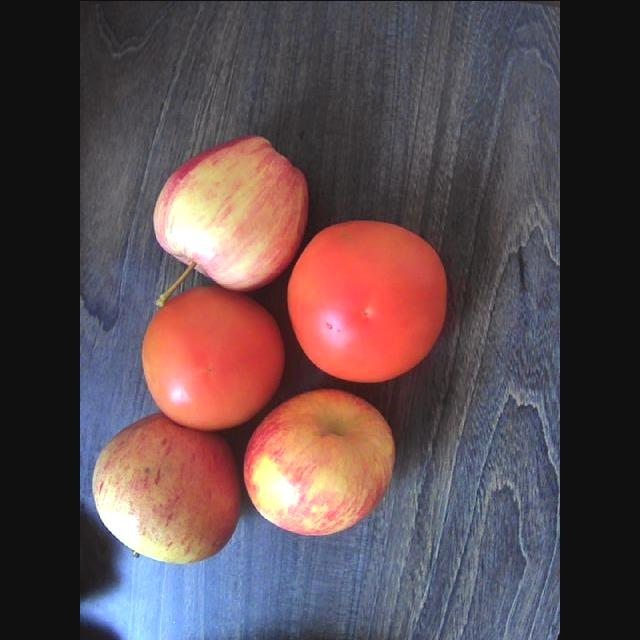manzana: (153, 137, 308, 304), (92, 412, 241, 562), (244, 389, 395, 534)
tomate: (288, 220, 445, 380), (142, 285, 284, 429)
